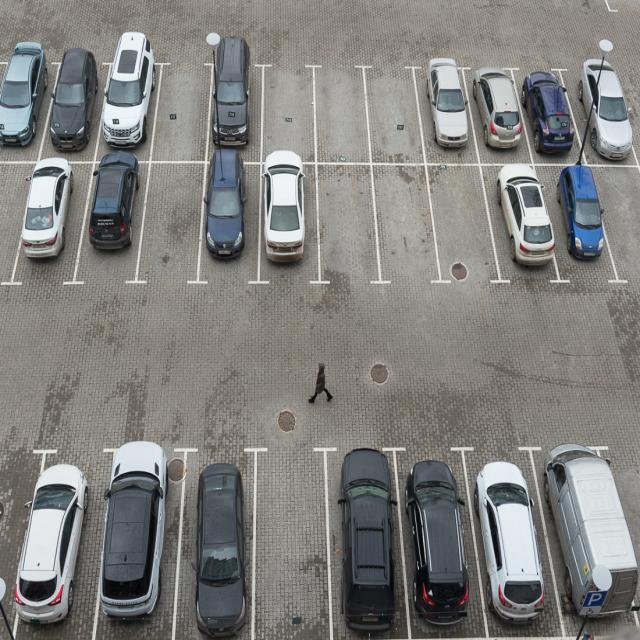empty: (254, 448, 332, 639), (139, 160, 204, 282), (430, 165, 495, 285), (315, 163, 378, 285), (374, 162, 434, 282), (154, 51, 210, 160), (260, 58, 314, 161), (314, 62, 366, 163), (367, 64, 420, 162), (597, 168, 639, 285), (0, 161, 28, 284)
occupied: (541, 444, 637, 627), (98, 443, 180, 639), (174, 446, 255, 639), (18, 445, 98, 639), (328, 447, 407, 638), (477, 444, 553, 628), (402, 448, 474, 610), (486, 165, 554, 285), (80, 159, 144, 283), (21, 160, 85, 282), (199, 159, 260, 283), (258, 162, 319, 282), (547, 162, 605, 280), (571, 62, 633, 163), (47, 48, 101, 160), (101, 52, 158, 156), (208, 53, 264, 158), (516, 63, 577, 159), (467, 63, 527, 156), (423, 55, 474, 157), (0, 49, 47, 156)
